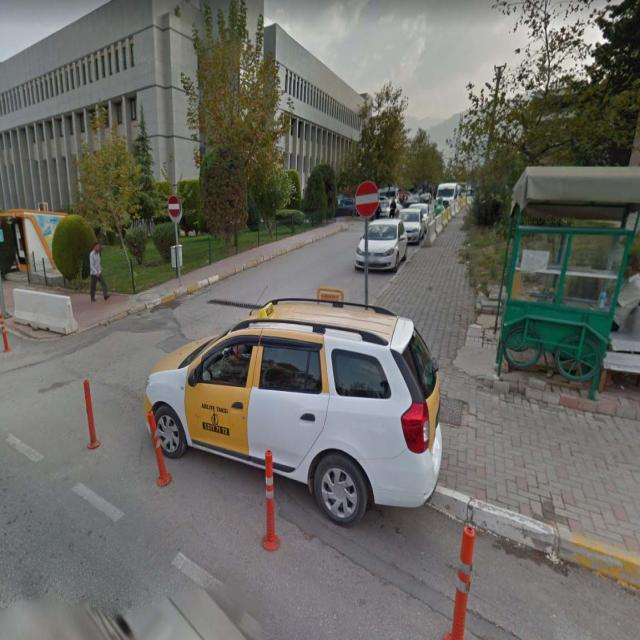girisyok: (354, 179, 379, 217), (167, 196, 181, 219)
